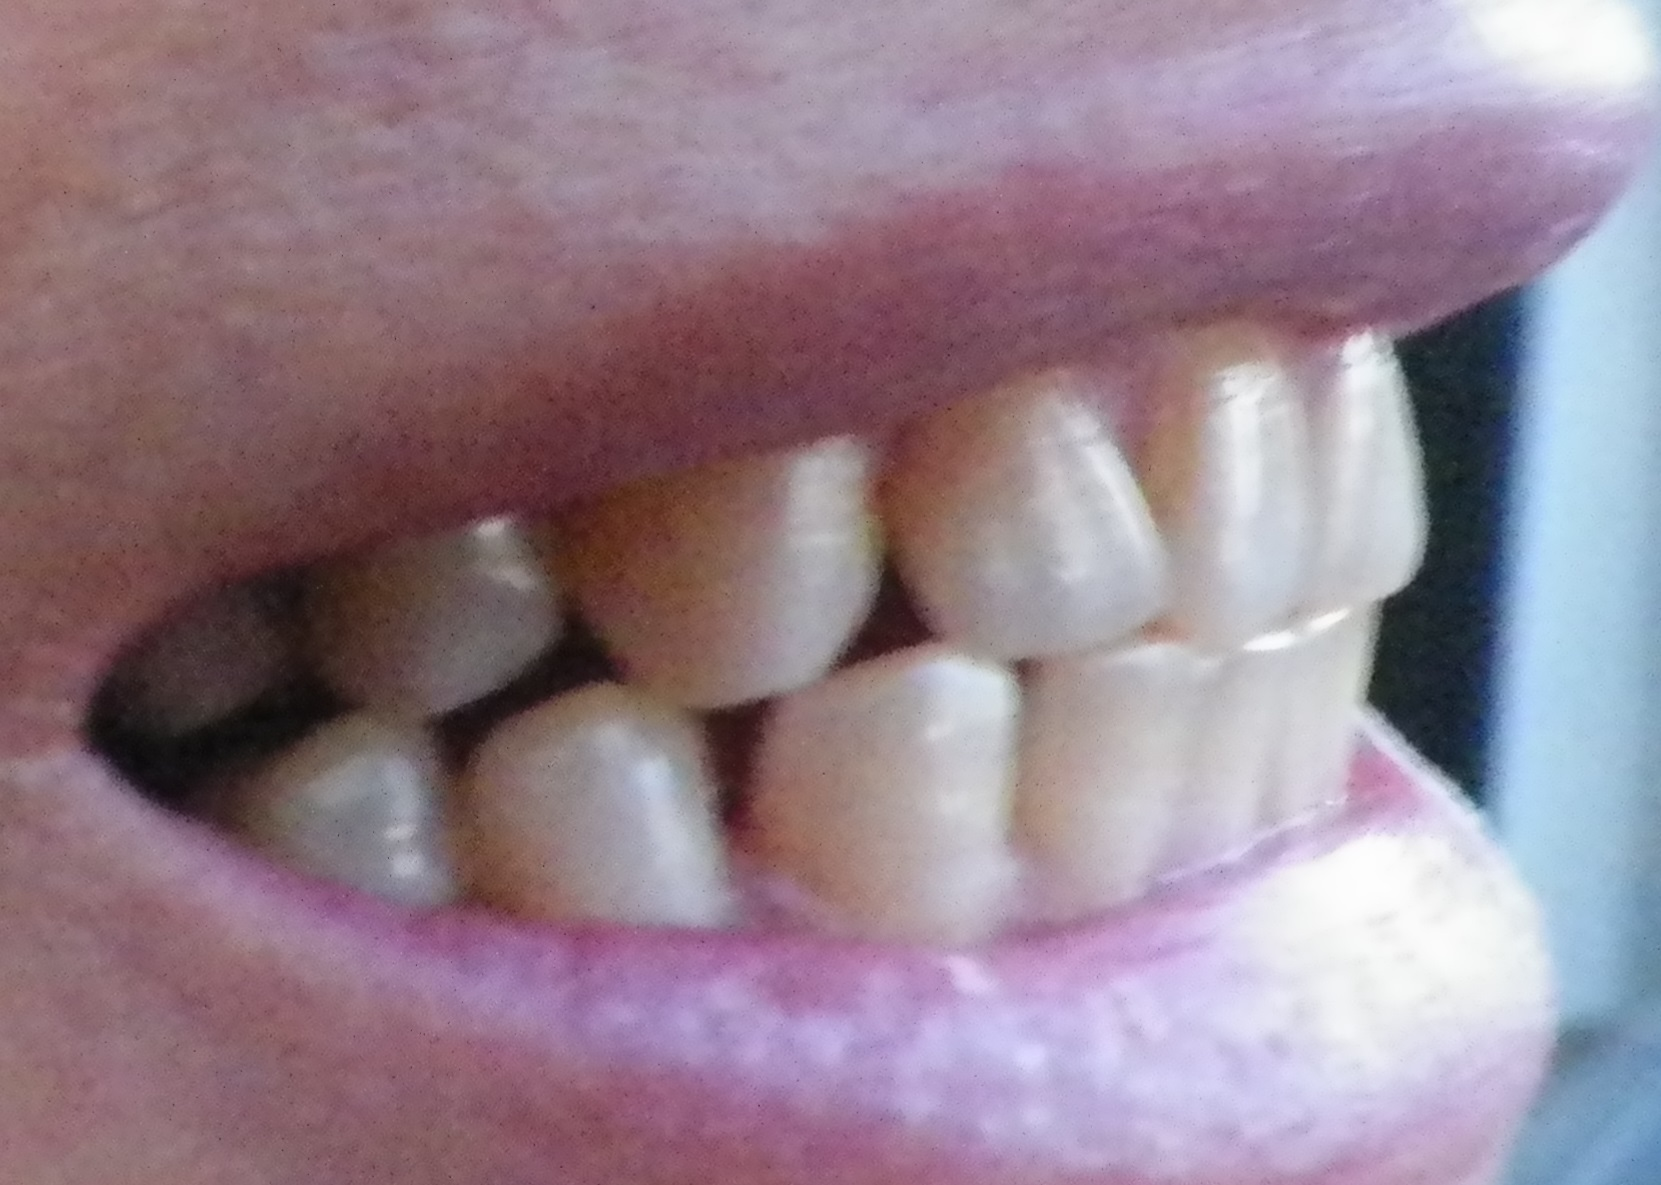boca: (142, 326, 1437, 903)
